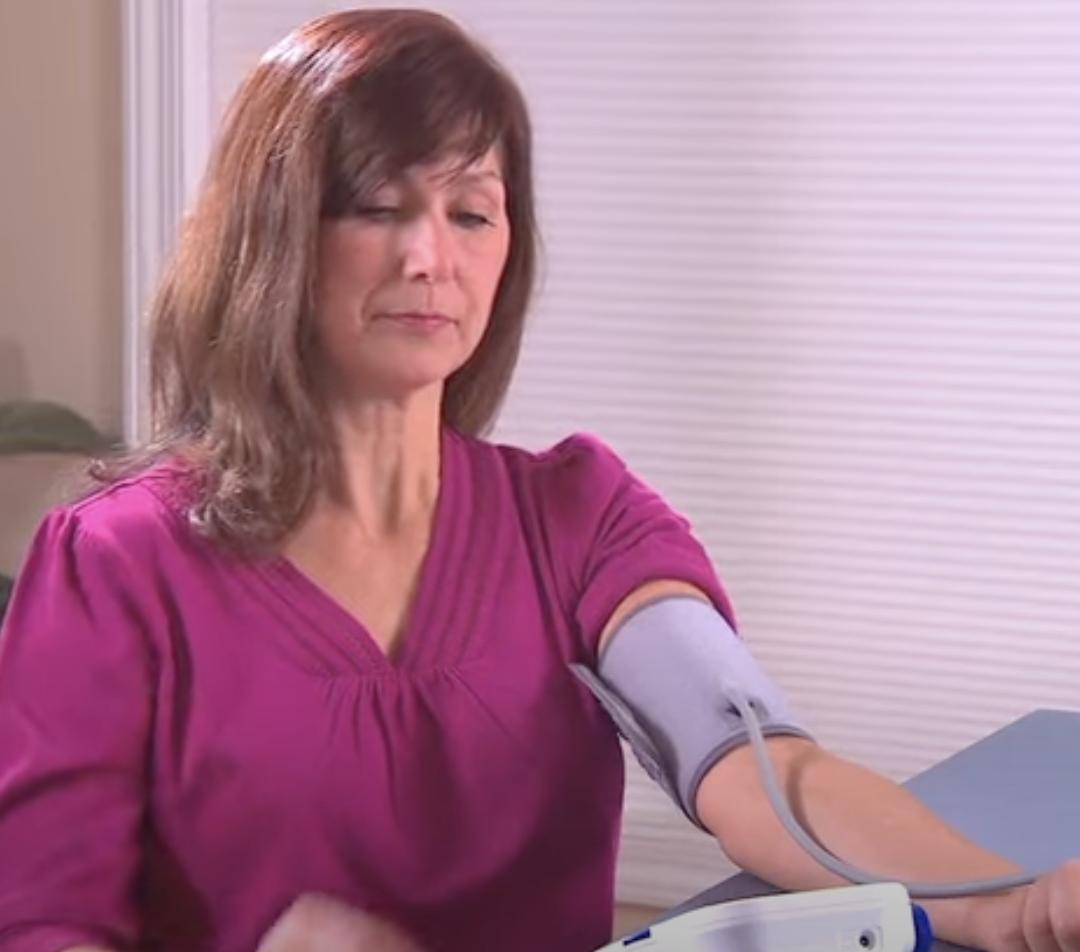cuff: (579, 594, 812, 828)
